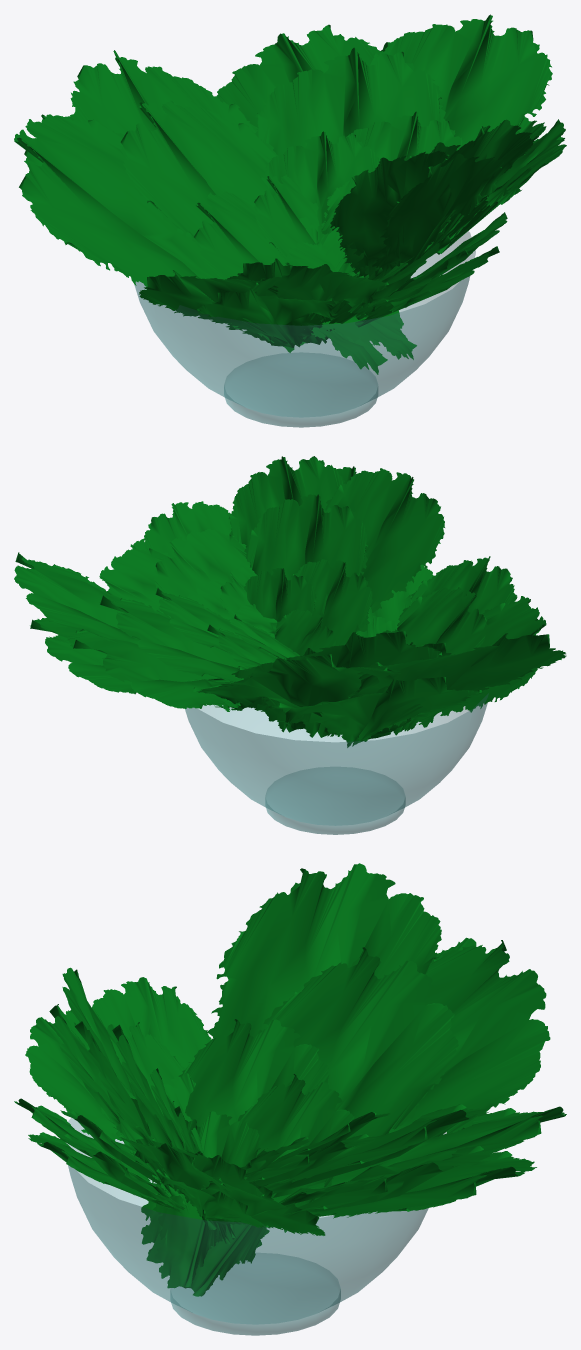
The model's file is vegetable.fbx.
3 views of the same model, one above another, from view 1: azimuth 30°, elevation 25°; view 2: azimuth 150°, elevation 25°; view 3: azimuth 270°, elevation 25° (orthographic). The views are drawn at different scales.
Parts seen in each view (by area): view 1: vegetable; view 2: vegetable; view 3: vegetable.
Boxes of the visible parts, x1,y1,x2,y2 form: vegetable: (14, 14, 566, 427); vegetable: (14, 456, 566, 834); vegetable: (14, 863, 566, 1335).
Size of the model in its own units: 582 by 302 by 454.
